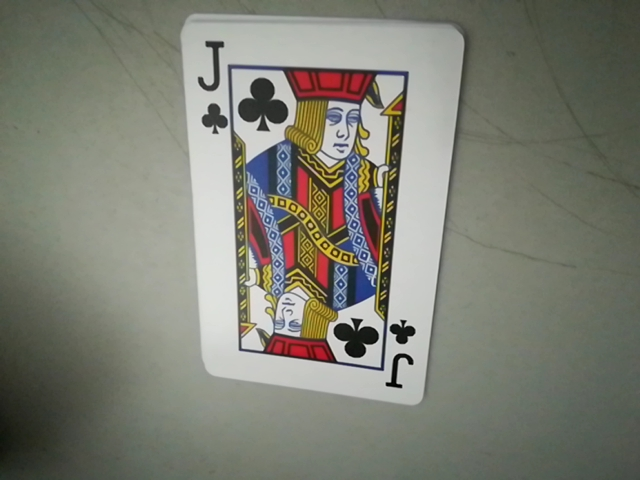mh j: (185, 39, 231, 141), (385, 320, 421, 391)
